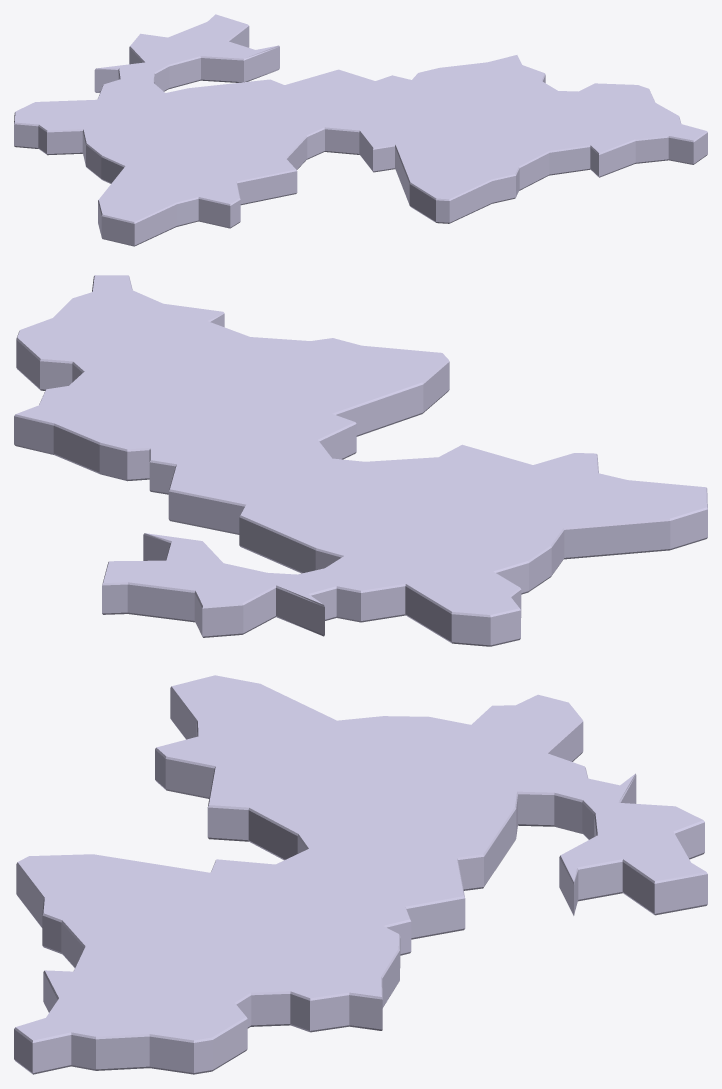
File: TJK.glb
3 renders of one model, top to bottom at view 1: azimuth 30°, elevation 25°; view 2: azimuth 150°, elevation 25°; view 3: azimuth 270°, elevation 25°, orthographic. The views are drawn at different scales.
Size of the model in its own units: 1.57 by 0.068 by 1.25.
